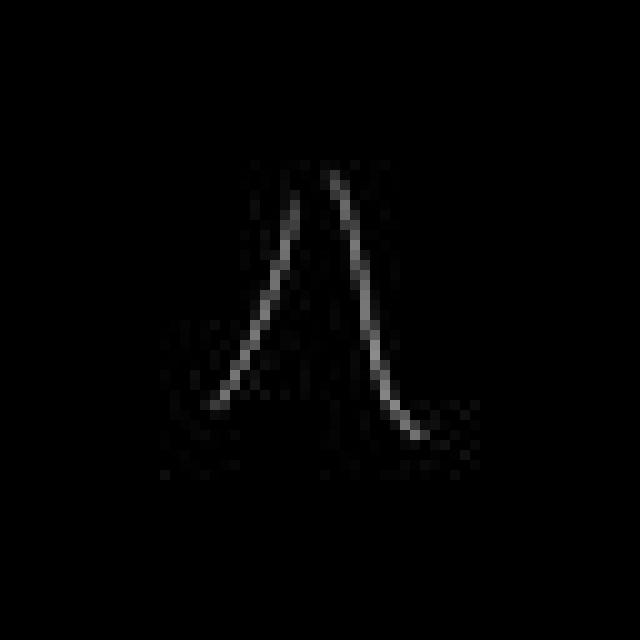8 -eight-: (210, 175, 432, 462)
